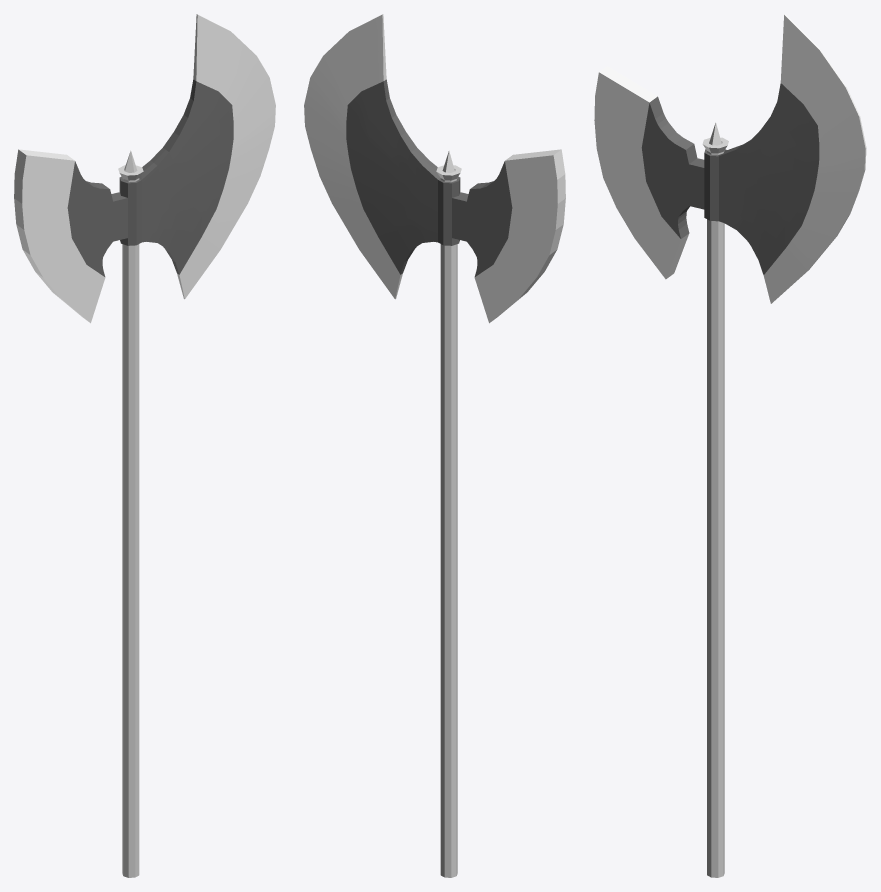
The model's file is axe.fbx.
3 views of the same model, side by side, from view 1: azimuth 30°, elevation 25°; view 2: azimuth 150°, elevation 25°; view 3: azimuth 330°, elevation 25° (orthographic). The views are drawn at different scales.
Parts seen in each view (by area): view 1: two_handed_axe_6; view 2: two_handed_axe_6; view 3: two_handed_axe_6.
Boxes of the visible parts, x1,y1,x2,y2 form: two_handed_axe_6: [14, 14, 275, 877]; two_handed_axe_6: [304, 14, 565, 877]; two_handed_axe_6: [594, 14, 866, 877].
Size of the model in its own units: 64.11 by 201 by 5.71.
